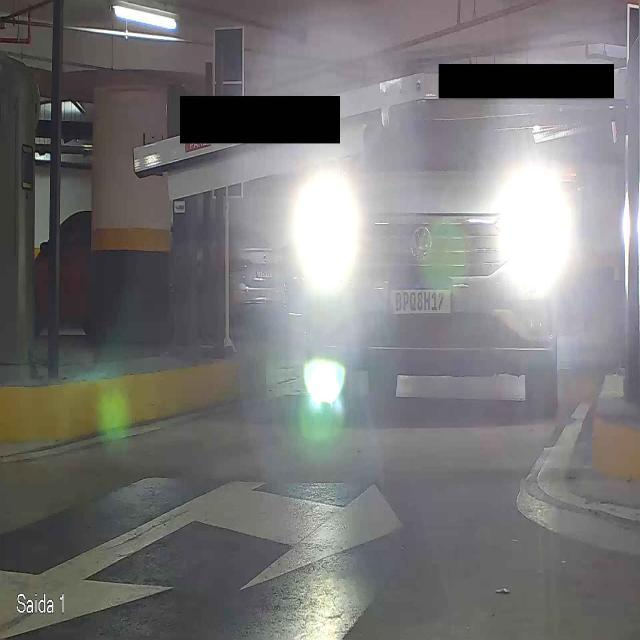mercosul_plate: (386, 279, 454, 316)
